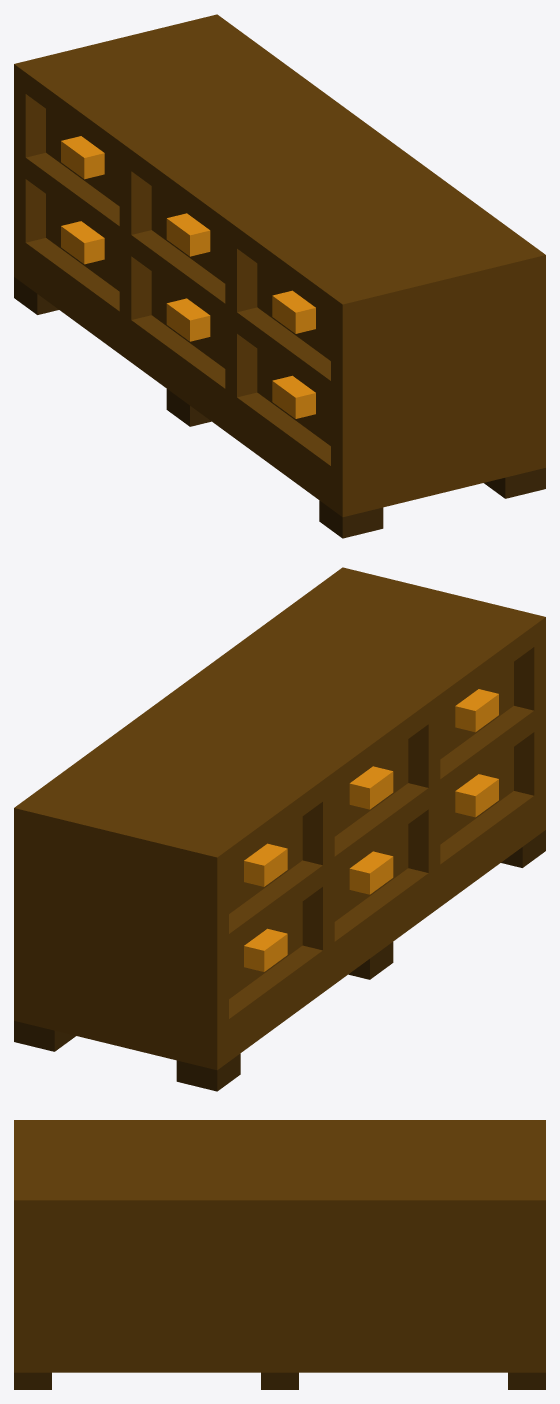
Rendered from Dresser.obj.
3 renders of one model, top to bottom at view 1: azimuth 30°, elevation 25°; view 2: azimuth 150°, elevation 25°; view 3: azimuth 270°, elevation 25°, orthographic. The views are drawn at different scales.
Parts seen in each view (by area): view 1: Dresser; view 2: Dresser; view 3: Dresser.
Part boxes in pixels (left/top/right/bottom): Dresser: left=14, top=14, right=545, bottom=538; Dresser: left=14, top=567, right=545, bottom=1091; Dresser: left=14, top=1120, right=545, bottom=1389.
Bounding box in the file's own units: 10 × 11 × 28.
Materials: 1 (1 with a texture image).
